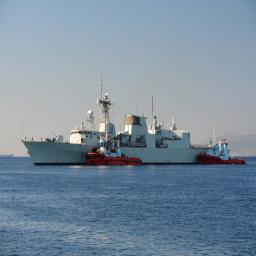Fragata: (21, 66, 233, 164)
